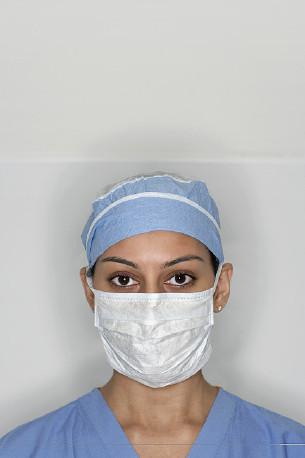OK: (89, 251, 228, 390)
